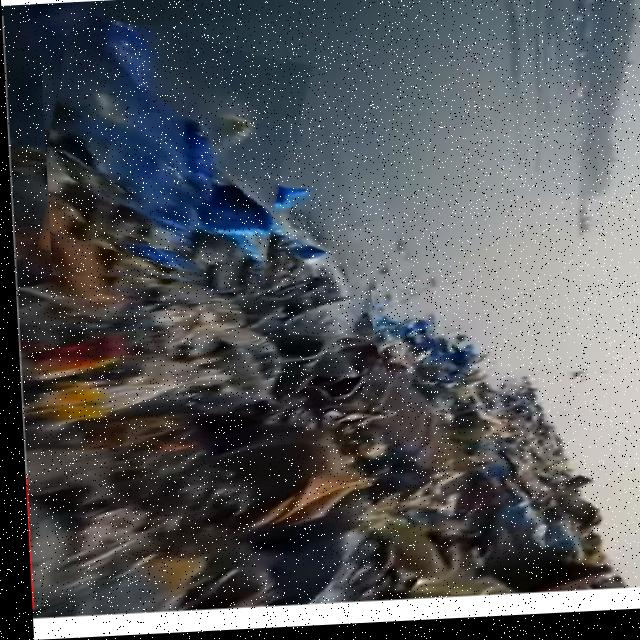litter: (38, 21, 305, 296), (367, 289, 486, 390)
